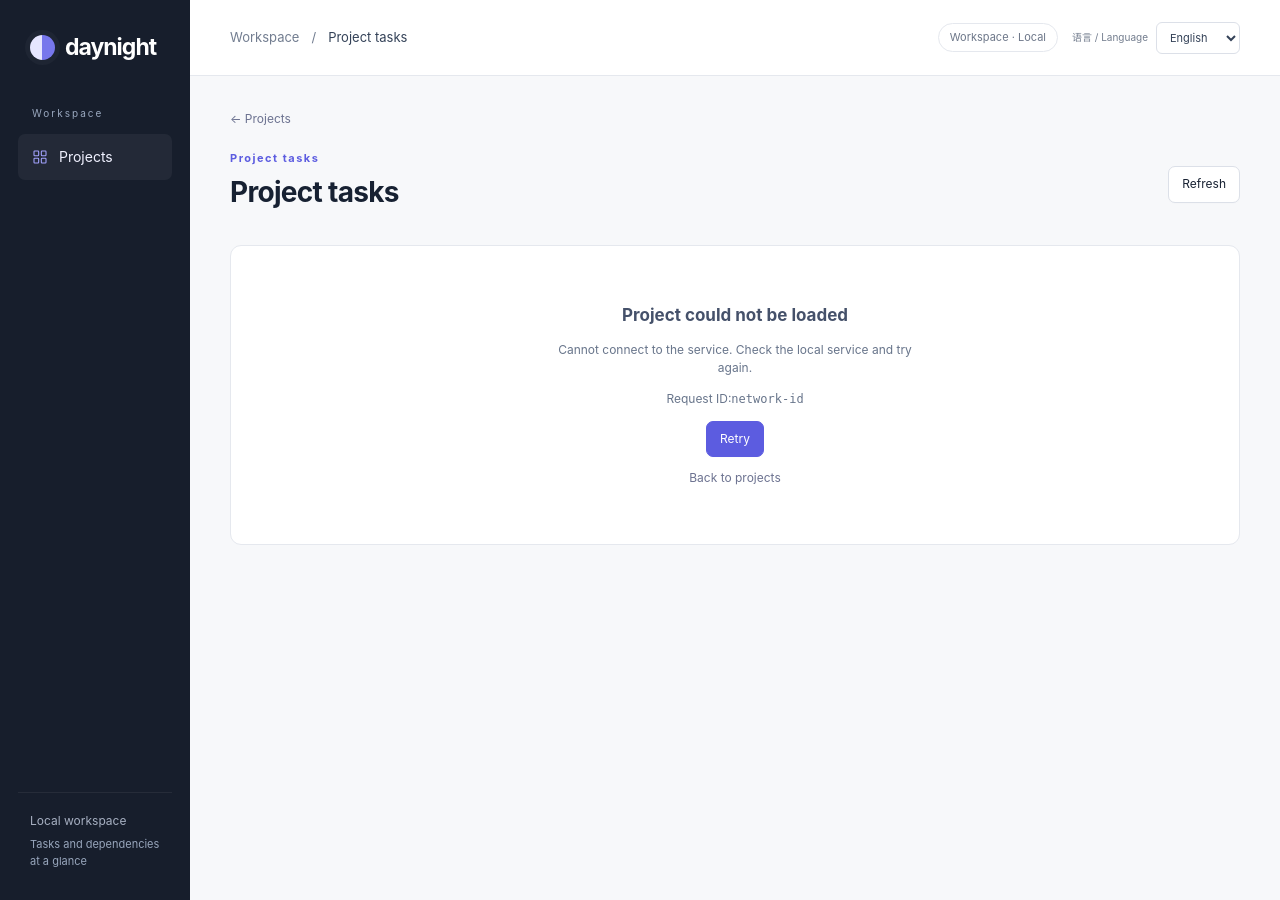
Test: workspace localization › retranslates an existing {"name":"ApiError","kind":"network","status":null,"code":"network","requestId":"network-id"} error and retains its request ID without r
Expected: the heading "Project could not be loaded" is shown, [622,302,848,329]
Select "简体中文" in the dropdown at (1198, 38), box [1156,22,1240,54]
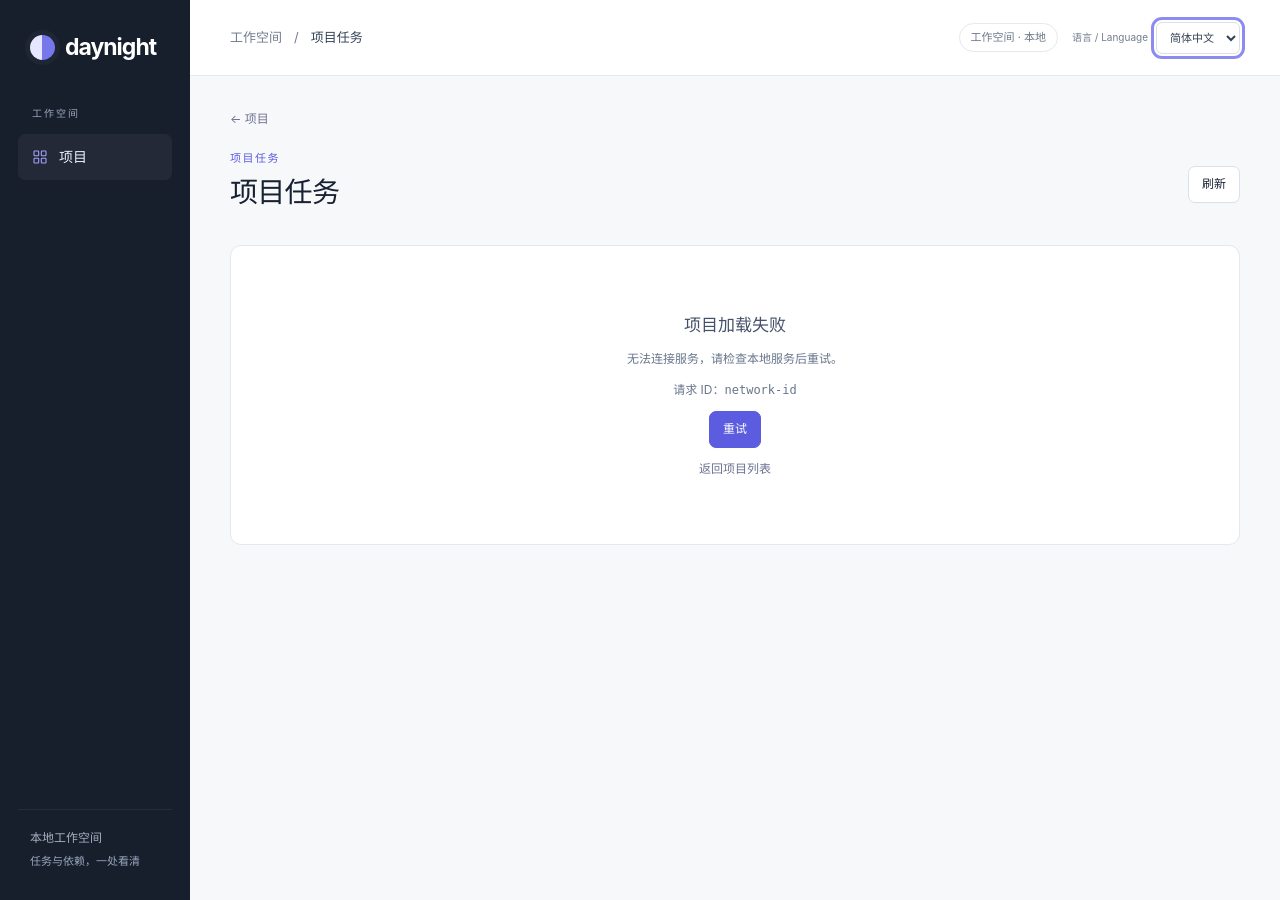
Result: the text "无法连接服务，请检查本地服务后重试。" is shown at [627,350,843,369]
